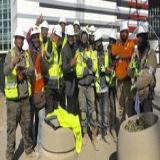Helmet: (13, 24, 26, 39), (136, 23, 148, 37), (119, 20, 129, 35), (29, 24, 40, 37), (53, 24, 62, 39), (65, 24, 75, 36), (93, 30, 103, 42), (80, 27, 89, 38), (109, 32, 118, 42), (59, 13, 67, 24), (89, 24, 96, 36), (41, 20, 49, 30), (73, 20, 80, 28)
Vest: (4, 49, 32, 98), (46, 41, 64, 90), (75, 46, 97, 86), (93, 46, 111, 92), (31, 49, 44, 95)
